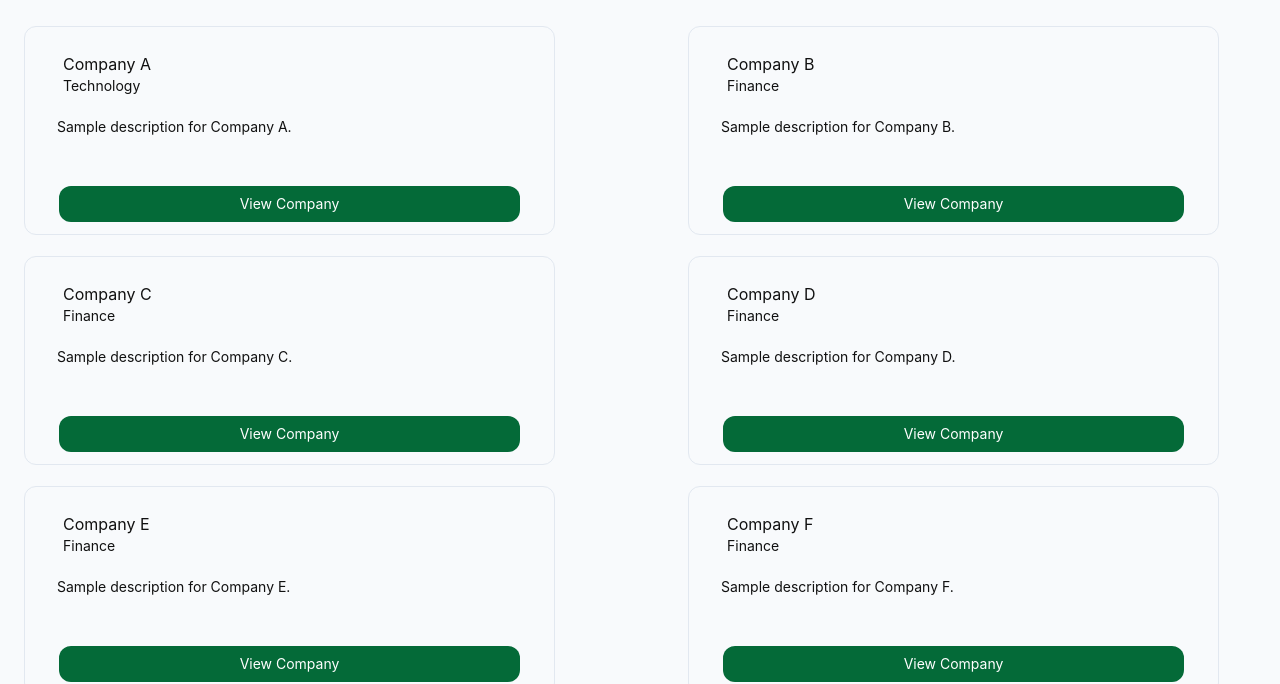
Test case: ExploreCompanies › navigates to the selected company details loaded from the API
This screenshot has width=1280, height=684.
Click the link with aria-label "View Company A company details".
click(290, 130)  # box 24,26 -> 555,235
(page scrolled)
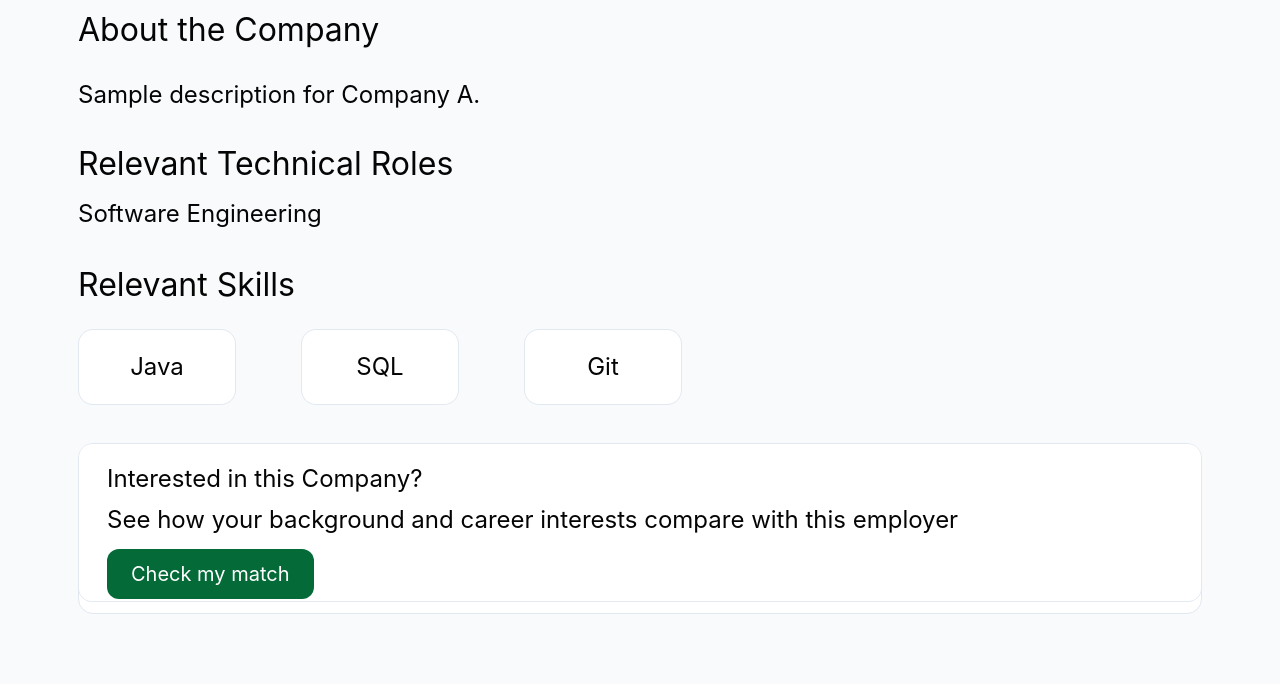
Result: the text "Software Engineering" is shown at 78,199 -> 322,228
Result: the text "Java" is shown at 130,355 -> 184,379
